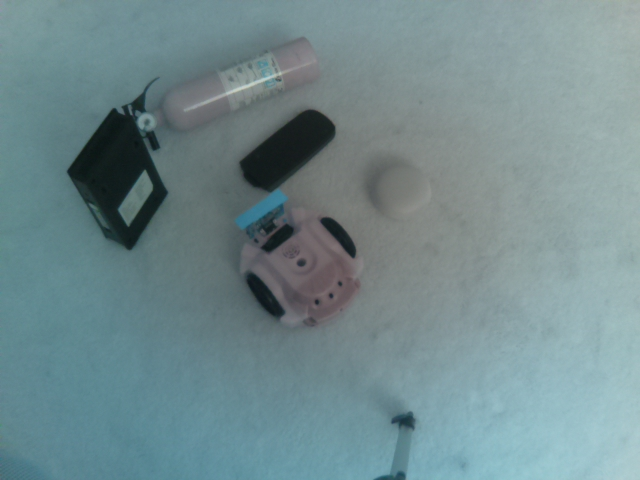board: (229, 187, 292, 249)
chassis: (223, 187, 367, 331)
